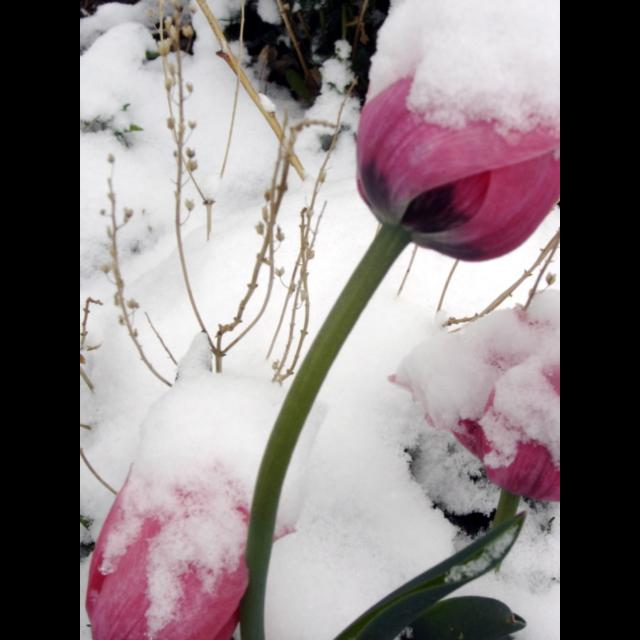Flower: (84, 338, 296, 640), (347, 9, 557, 304), (383, 290, 559, 504)
